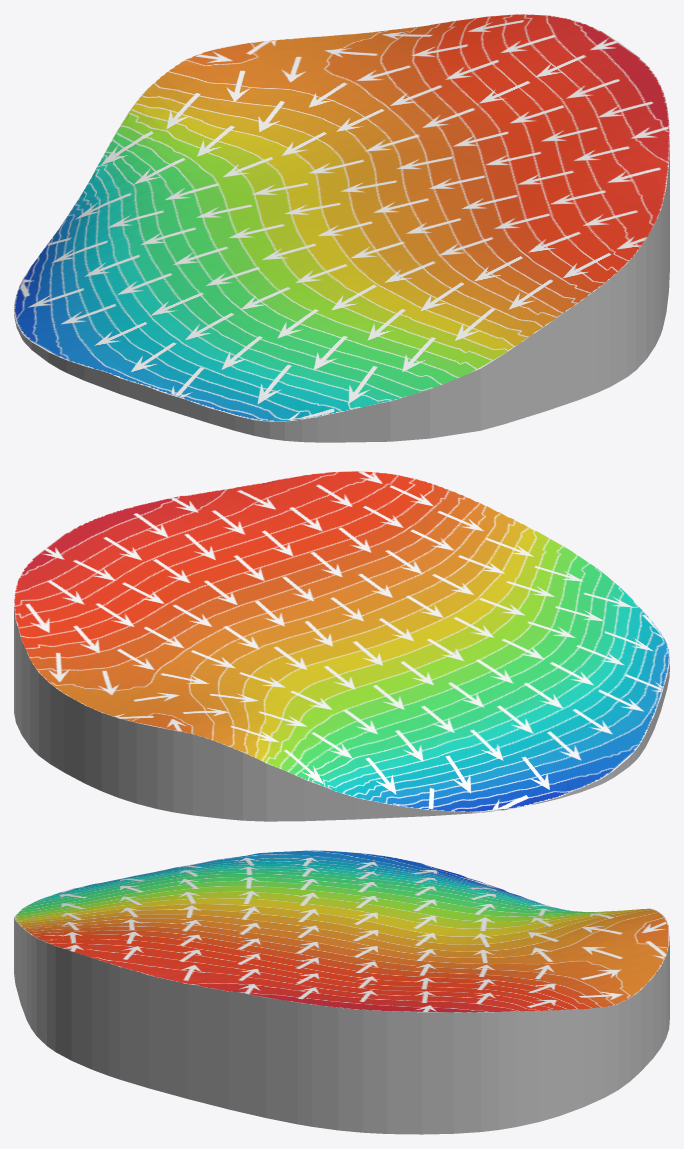
The picture shows the model from 3 angles, top to bottom: view 1: azimuth 30°, elevation 25°; view 2: azimuth 150°, elevation 25°; view 3: azimuth 270°, elevation 25°; orthographic projection. The views are drawn at different scales.
Bounding box in the file's own units: 5.51 × 1.16 × 5.58.
Materials: 2 (1 with a texture image).
